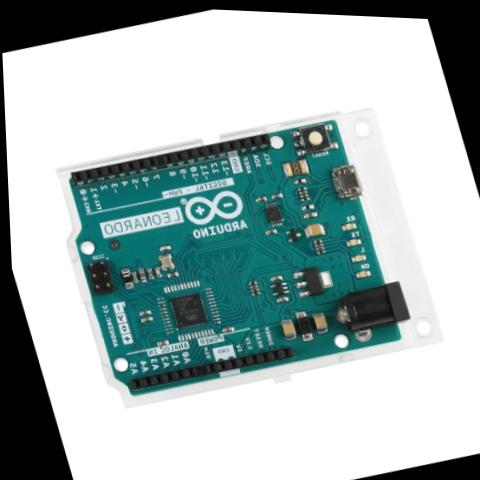Arduino-Leonardo: (22, 84, 421, 425)
